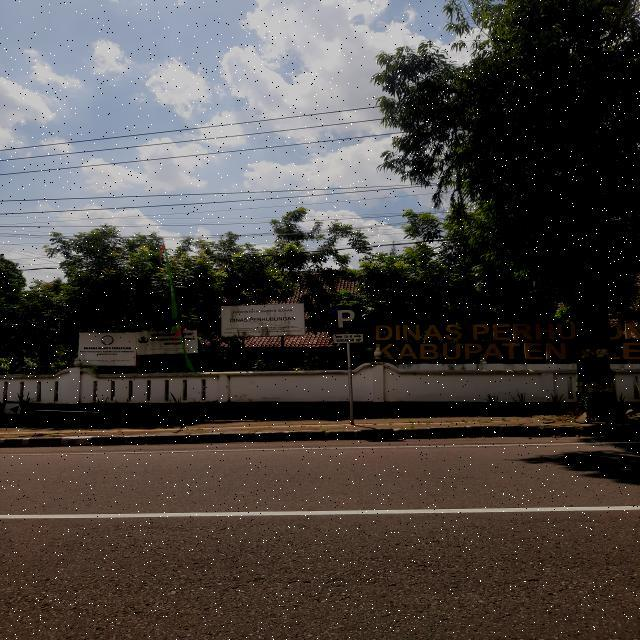Tempat Parkir: (332, 306, 362, 332)
